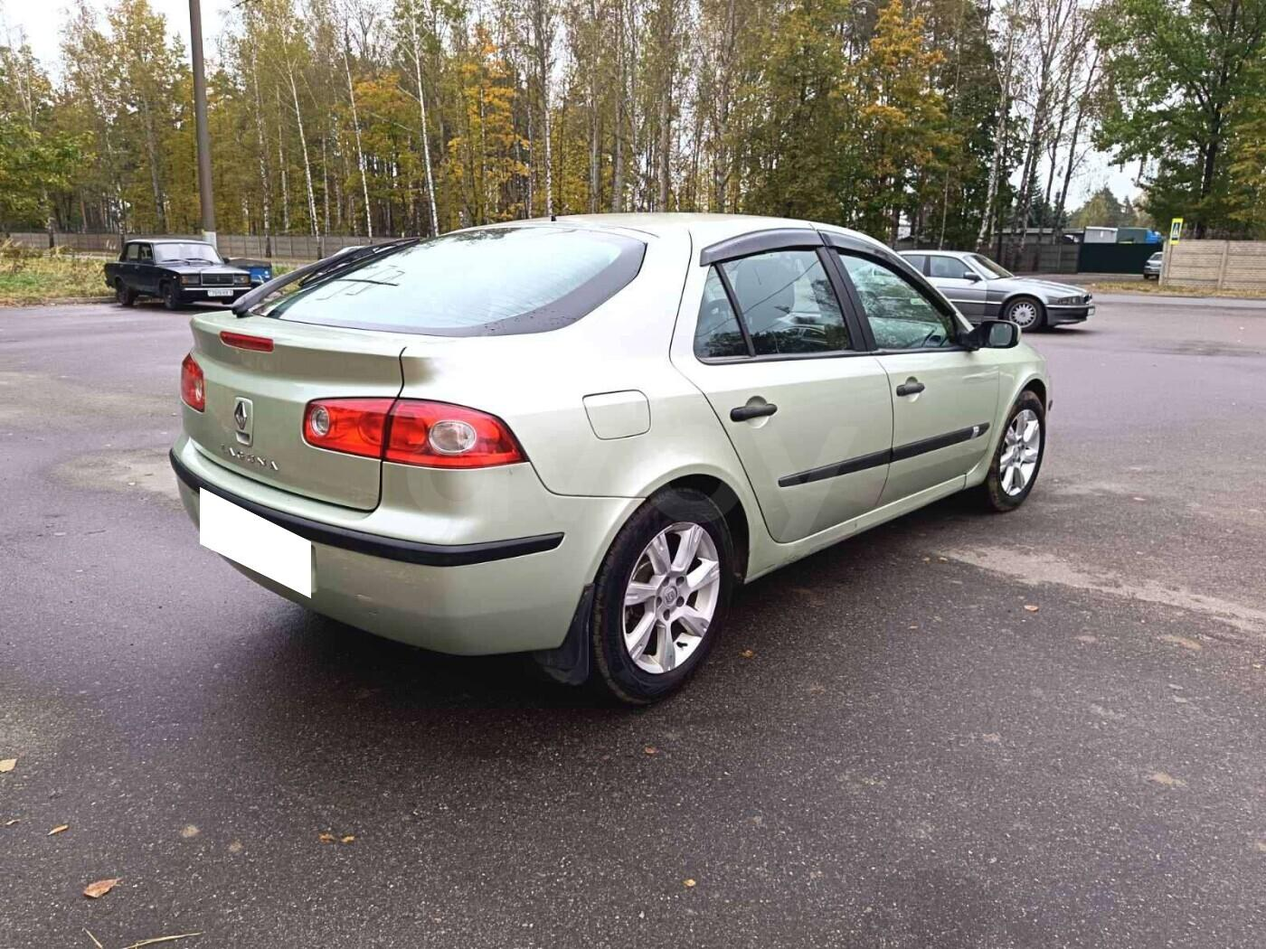Laguna_2005-2007: (171, 209, 1054, 704)
